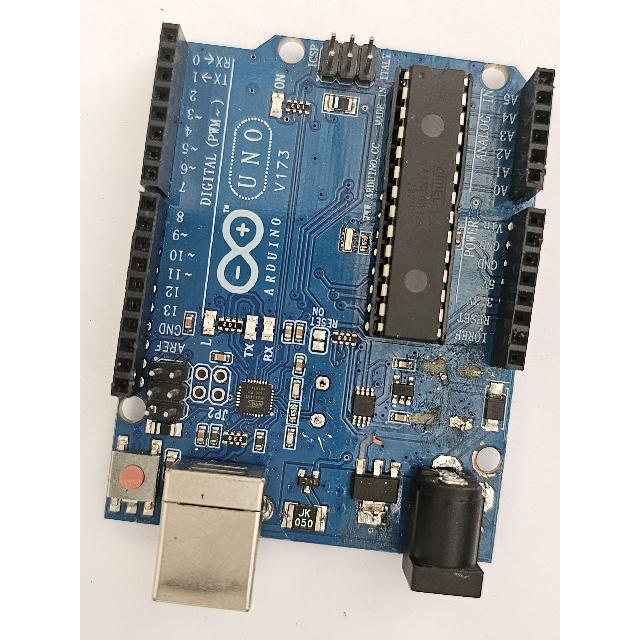missing_capacitors: (406, 349, 485, 447)
missing_crystal_os: (302, 359, 339, 454)
